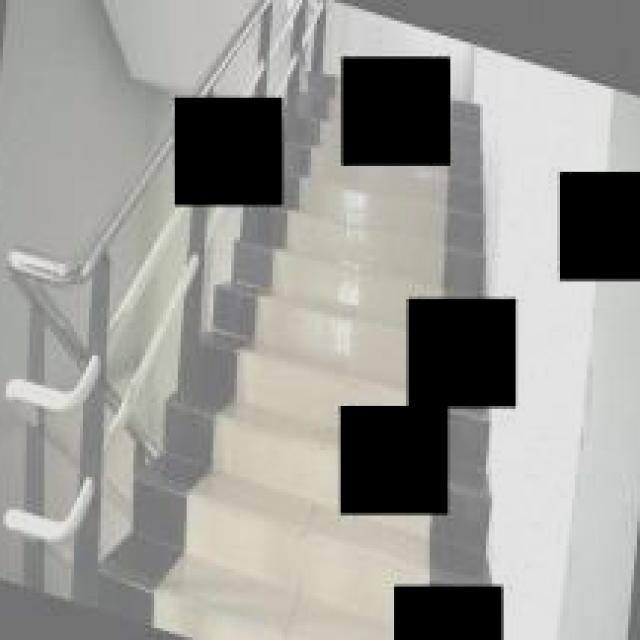upstair: (114, 457, 336, 640), (312, 173, 496, 294)
